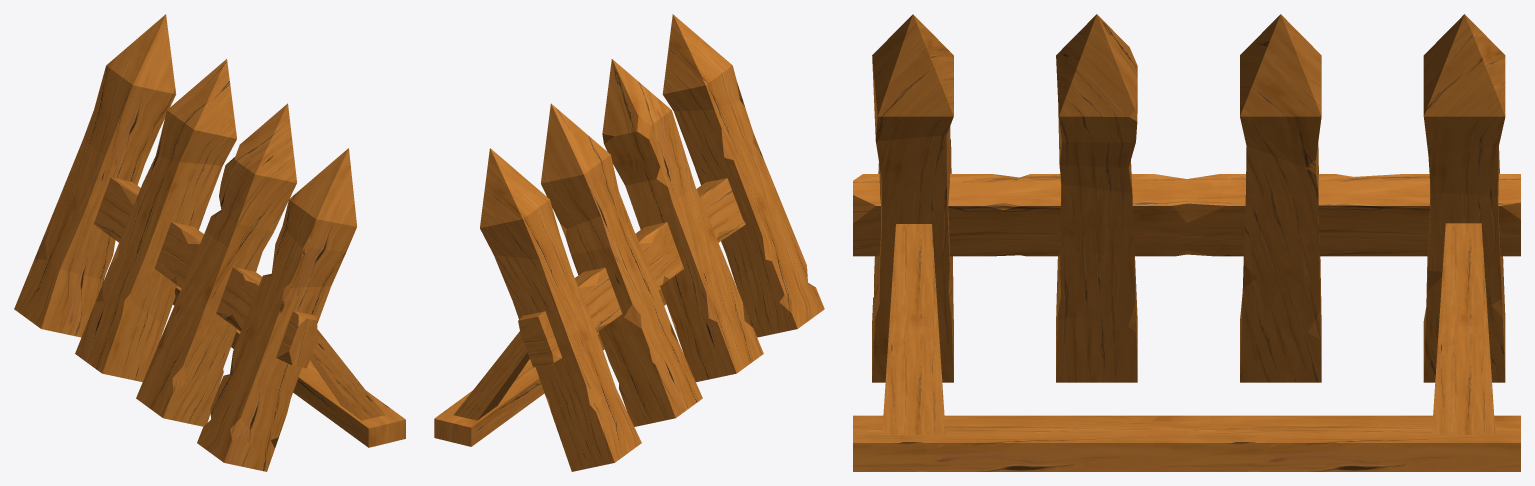
Rendered from pagar_bake.fbx.
3 renders of one model, left to right at view 1: azimuth 30°, elevation 25°; view 2: azimuth 150°, elevation 25°; view 3: azimuth 270°, elevation 25°, orthographic. The views are drawn at different scales.
Visible parts, largest first — view 1: pagar kayu; view 2: pagar kayu; view 3: pagar kayu.
Part boxes in pixels (left/top/right/bottom): pagar kayu: left=14, top=14, right=405, bottom=471; pagar kayu: left=434, top=14, right=824, bottom=471; pagar kayu: left=853, top=14, right=1520, bottom=471.
Size of the model in its own units: 211 by 334 by 461.
Materials: 1 (1 with a texture image).
